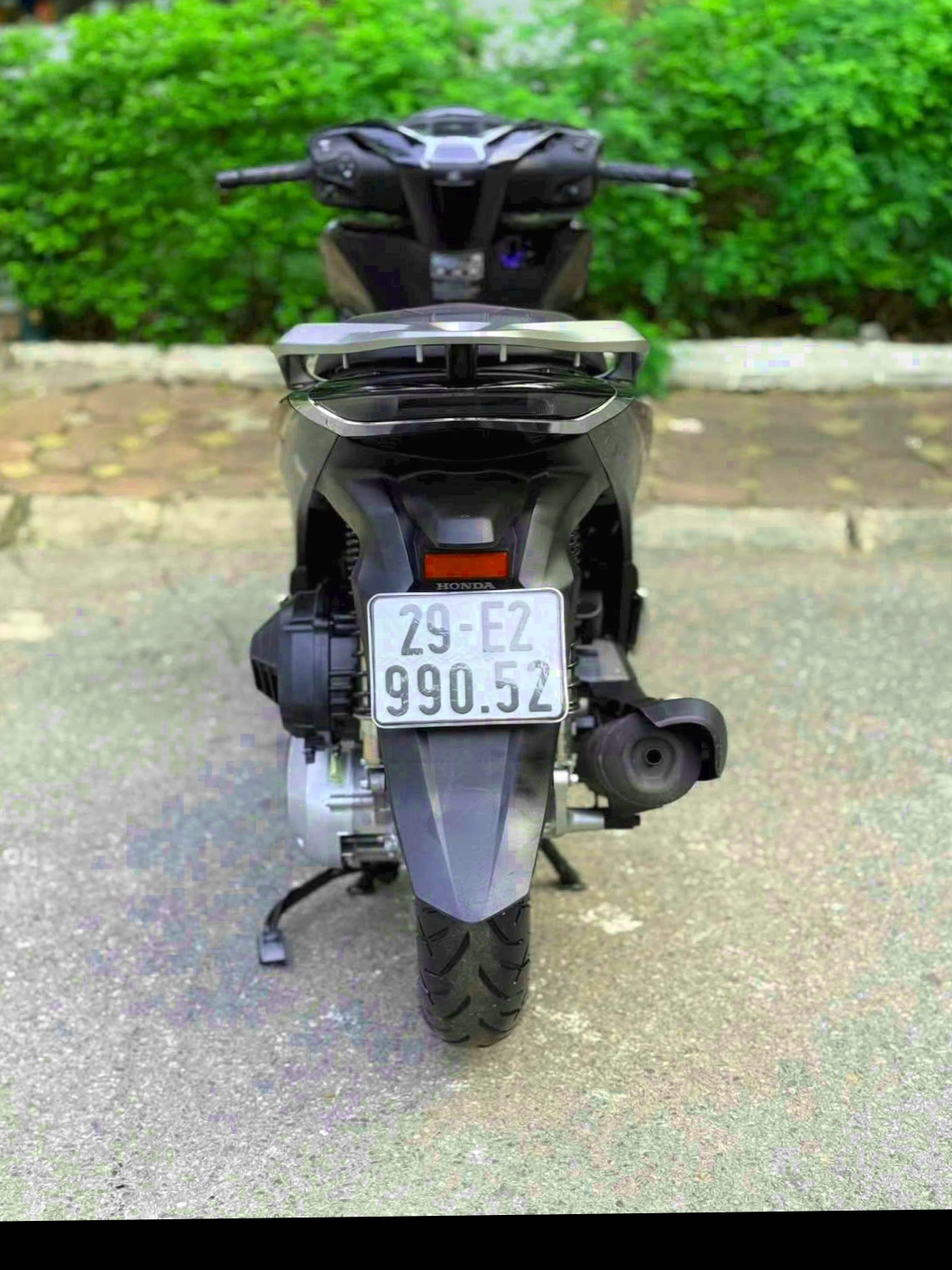Bien-so: (362, 584, 578, 736)
